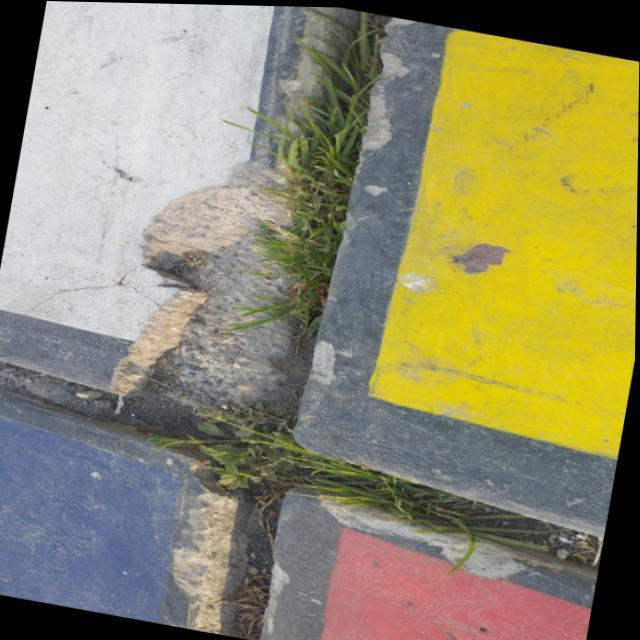hole: (109, 140, 329, 446)
